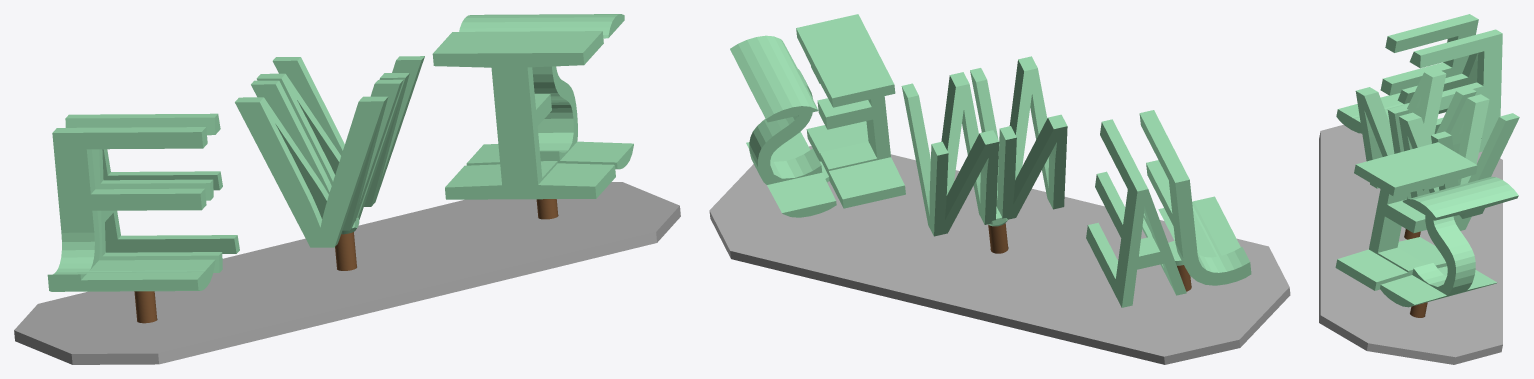
The model's file is DoubleName.glb.
The picture shows the model from 3 angles, left to right: view 1: azimuth 30°, elevation 25°; view 2: azimuth 150°, elevation 25°; view 3: azimuth 270°, elevation 25°; orthographic projection. The views are drawn at different scales.
Parts seen in each view (by area): view 1: E JA; view 2: E JA; view 3: E JA.
Boxes of the visible parts, x1,y1,x2,y2 form: E JA: (14, 14, 680, 364); E JA: (709, 14, 1290, 364); E JA: (1319, 14, 1519, 364).
Bounding box in the file's own units: 2.76 × 0.9672 × 1.04.
